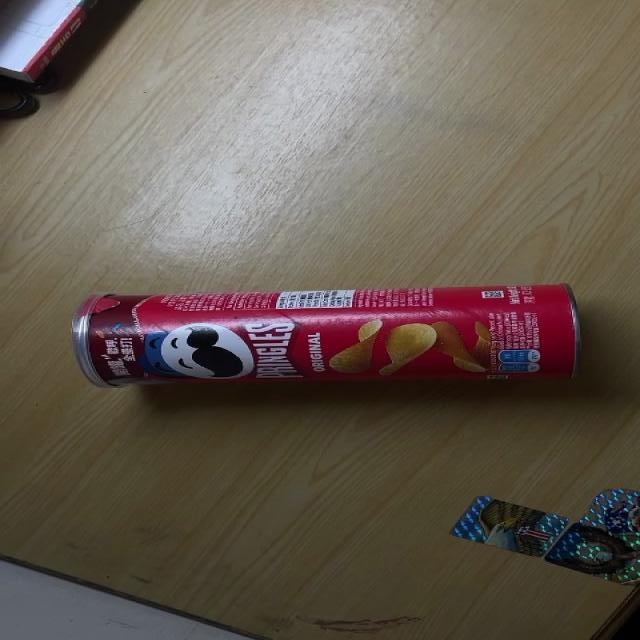Pringles: (70, 283, 585, 390)
